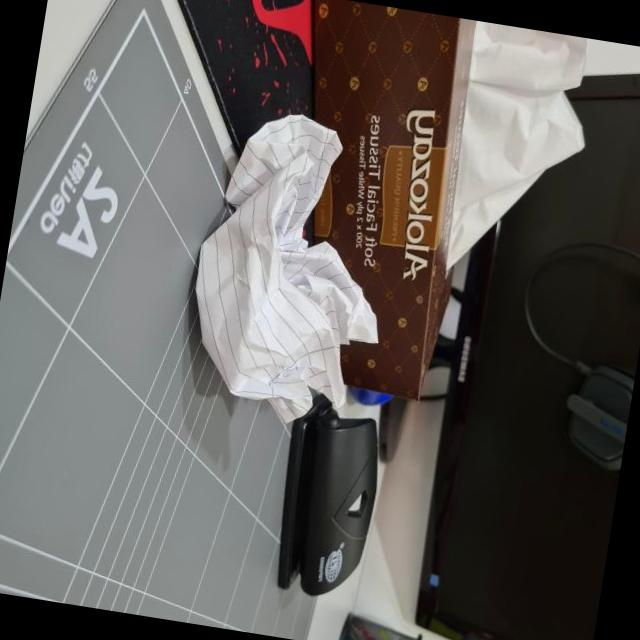cardboard paper: (195, 116, 376, 423), (447, 23, 586, 267)
